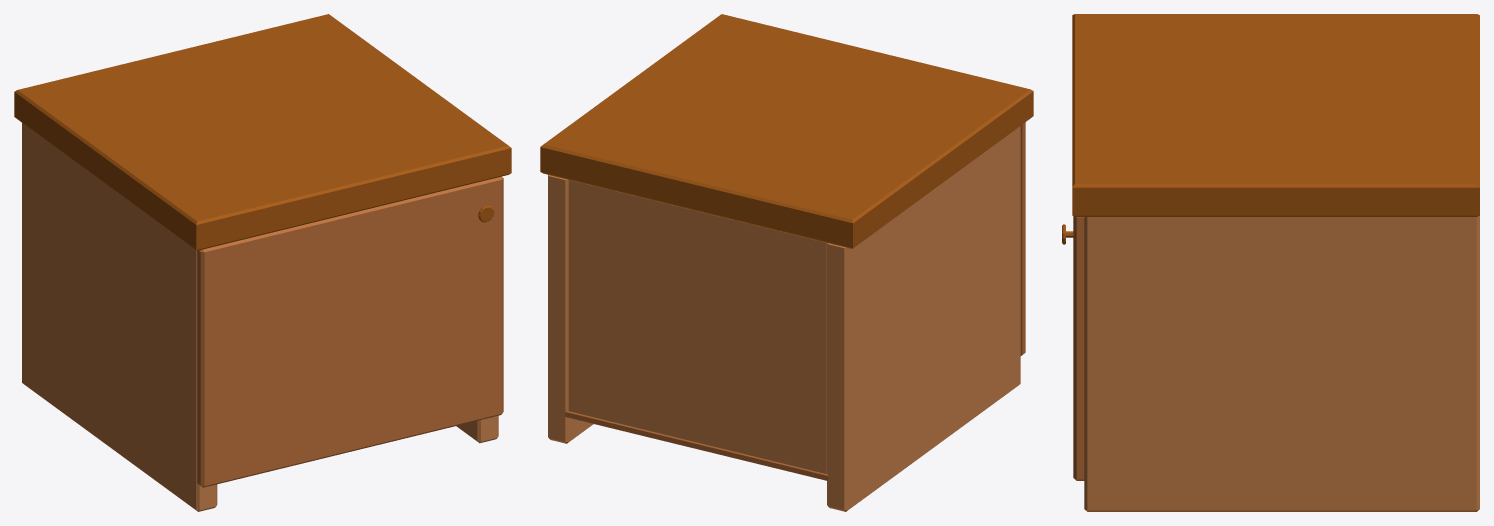
Rendered from Cupboard.glb.
The picture shows the model from 3 angles, left to right: view 1: azimuth 30°, elevation 25°; view 2: azimuth 150°, elevation 25°; view 3: azimuth 270°, elevation 25°; orthographic projection. The views are drawn at different scales.
Visible parts, largest first — view 1: Cupboard, CupboardDoor; view 2: Cupboard, CupboardDoor; view 3: Cupboard, CupboardDoor.
Part boxes in pixels (box(x1,y1,x2,y2)): Cupboard: box(14, 14, 511, 511); CupboardDoor: box(197, 176, 503, 487); Cupboard: box(540, 14, 1033, 511); CupboardDoor: box(1020, 122, 1025, 355); Cupboard: box(1072, 14, 1479, 511); CupboardDoor: box(1062, 216, 1084, 480).
Size of the model in its own units: 1 by 0.8974 by 1.02.
Materials: 1 (1 with a texture image).
